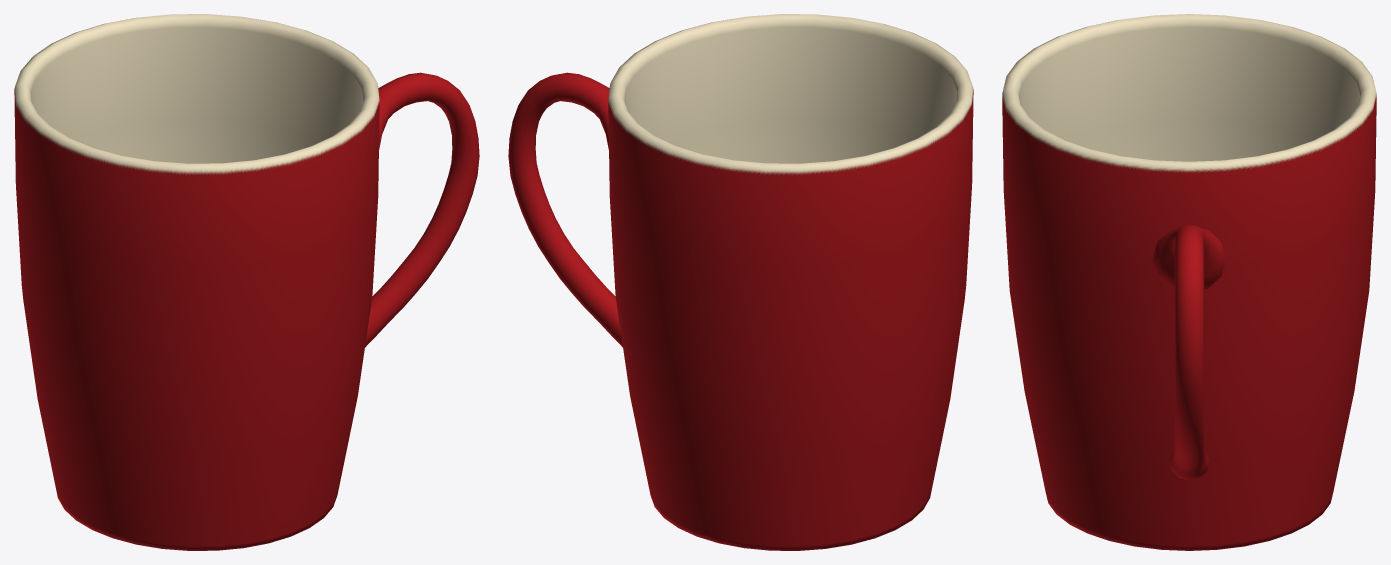
File: mug.fbx
3 renders of one model, left to right at view 1: azimuth 30°, elevation 25°; view 2: azimuth 150°, elevation 25°; view 3: azimuth 270°, elevation 25°, orthographic.
Parts seen in each view (by area): view 1: mug, handle; view 2: mug, handle; view 3: mug, handle.
Boxes of the visible parts, box(x1,y1,x2,y2) form: mug: box(14, 14, 379, 550); handle: box(365, 72, 479, 347); mug: box(608, 14, 973, 550); handle: box(508, 72, 622, 347); mug: box(1002, 14, 1376, 550); handle: box(1152, 224, 1226, 480).
Bounding box in the file's own units: 11.45 × 10.05 × 8.45.
1 material, 1 textured.
